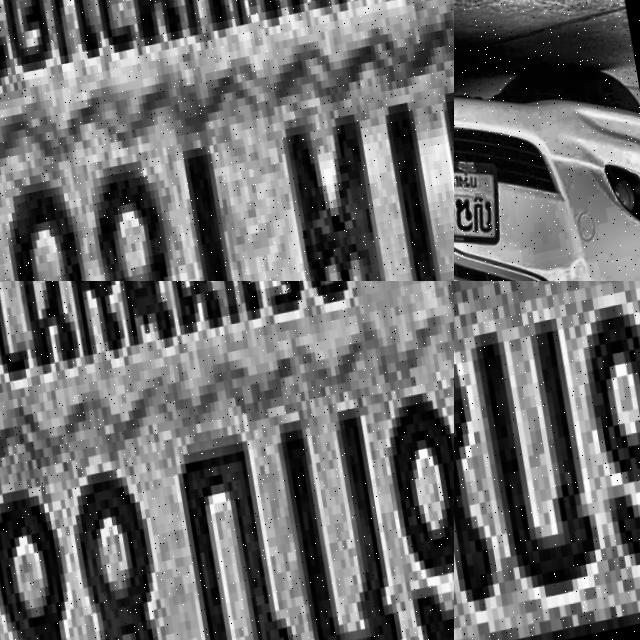license-plate: (0, 281, 454, 640), (0, 0, 454, 281), (454, 281, 640, 640), (454, 129, 511, 278)
